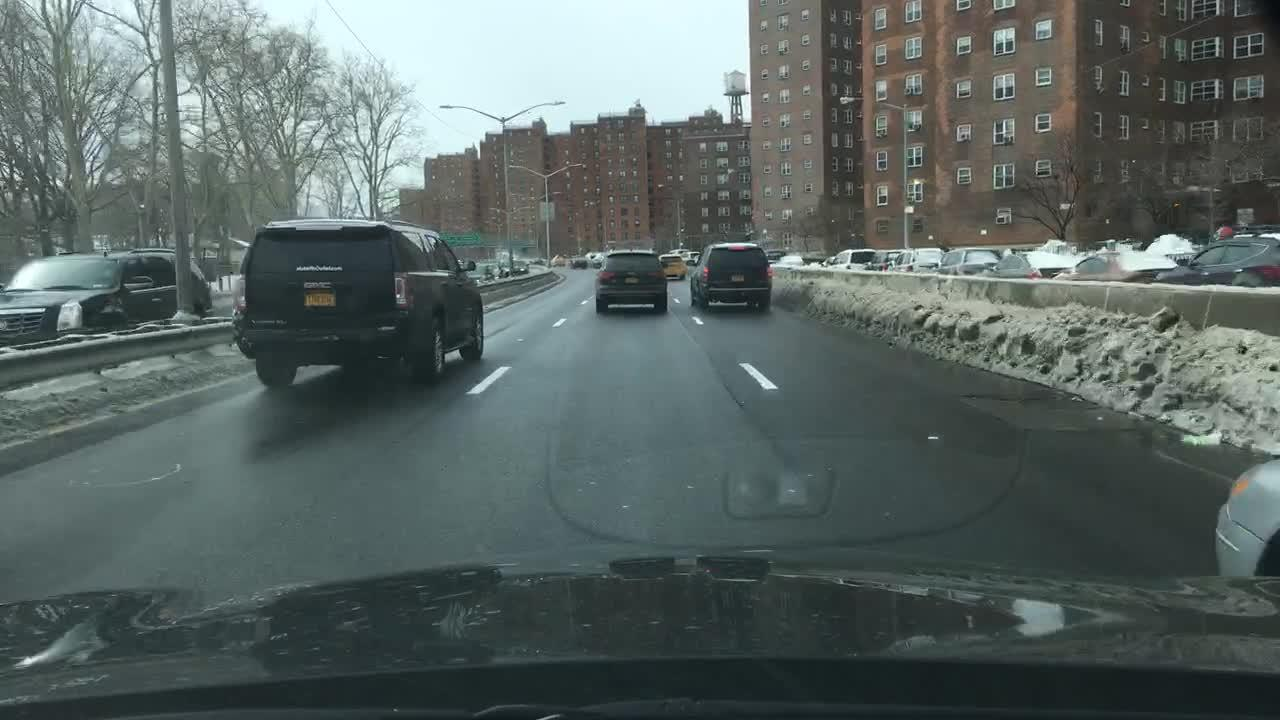GMC: (299, 275, 343, 298)
